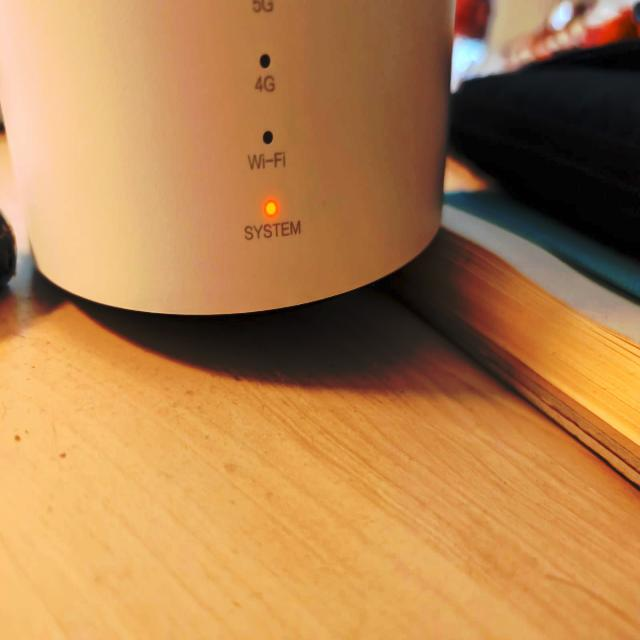modem: (0, 0, 450, 314)
off: (256, 122, 282, 158), (254, 39, 279, 74)
orange: (260, 195, 286, 231)
